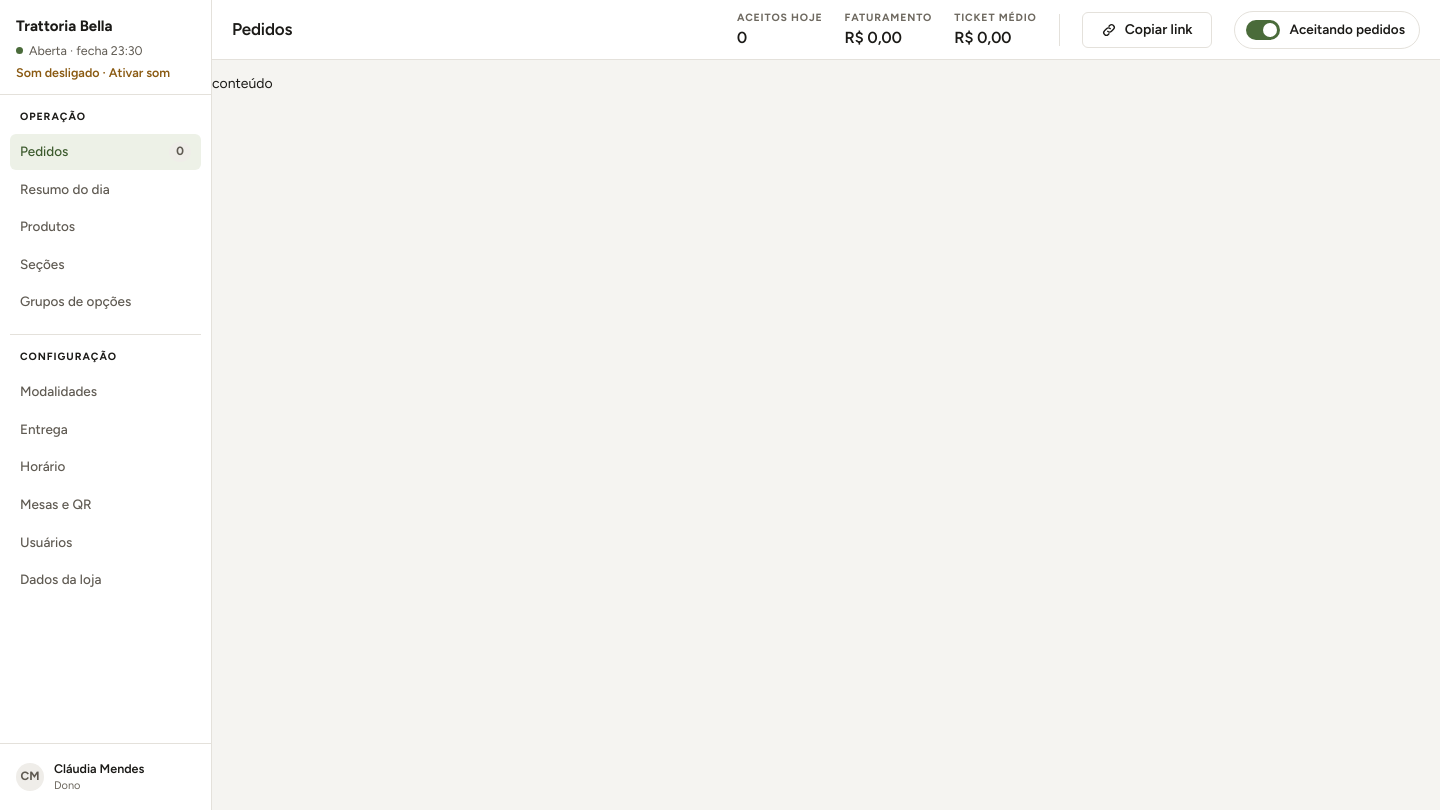
Test case: PanelLayout › copia o link do cardápio que a API montou e avisa
Click the button with aria-label "Copiar link do cardápio" at (1147, 30), box [1082,12,1212,48]
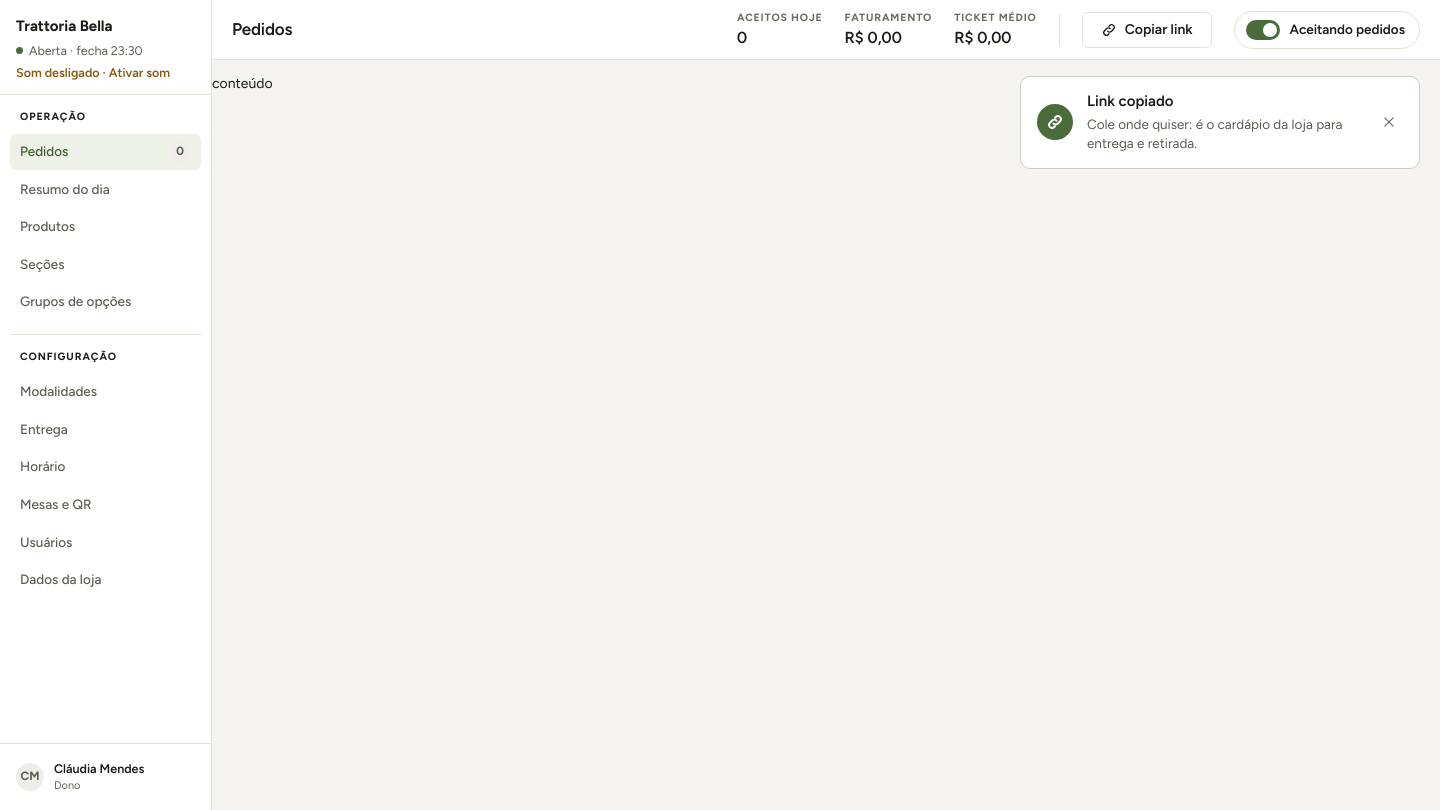
Expected: the text "Link copiado" is shown, [1087,92,1174,110]
